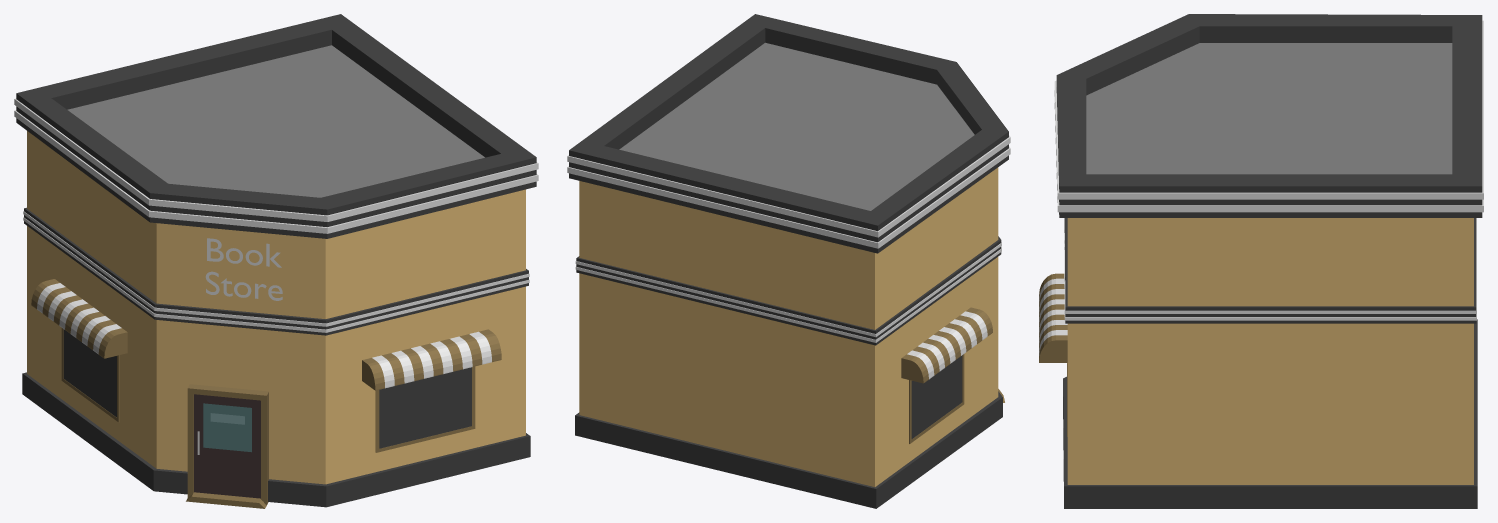
File: Building_BookStore.fbx
The picture shows the model from 3 angles, left to right: view 1: azimuth 30°, elevation 25°; view 2: azimuth 150°, elevation 25°; view 3: azimuth 270°, elevation 25°; orthographic projection. The views are drawn at different scales.
Parts seen in each view (by area): view 1: Cube, Text; view 2: Cube; view 3: Cube.
Boxes of the visible parts, x1,y1,x2,y2 form: Cube: (14, 14, 538, 508); Text: (205, 238, 282, 300); Cube: (567, 14, 1010, 508); Cube: (1039, 14, 1483, 508).
Bounding box in the file's own units: 1052 × 885 × 1095.
